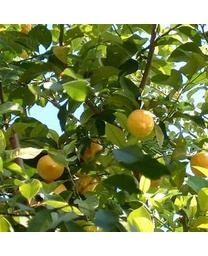lemon: (127, 110, 155, 139), (37, 155, 65, 181)
